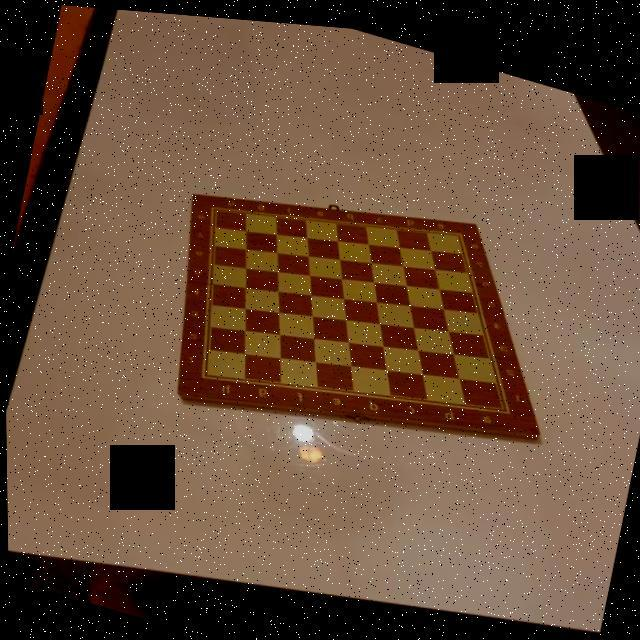chess-table-corners: (203, 196, 222, 213), (193, 364, 210, 381), (496, 394, 513, 409), (451, 220, 468, 233)
